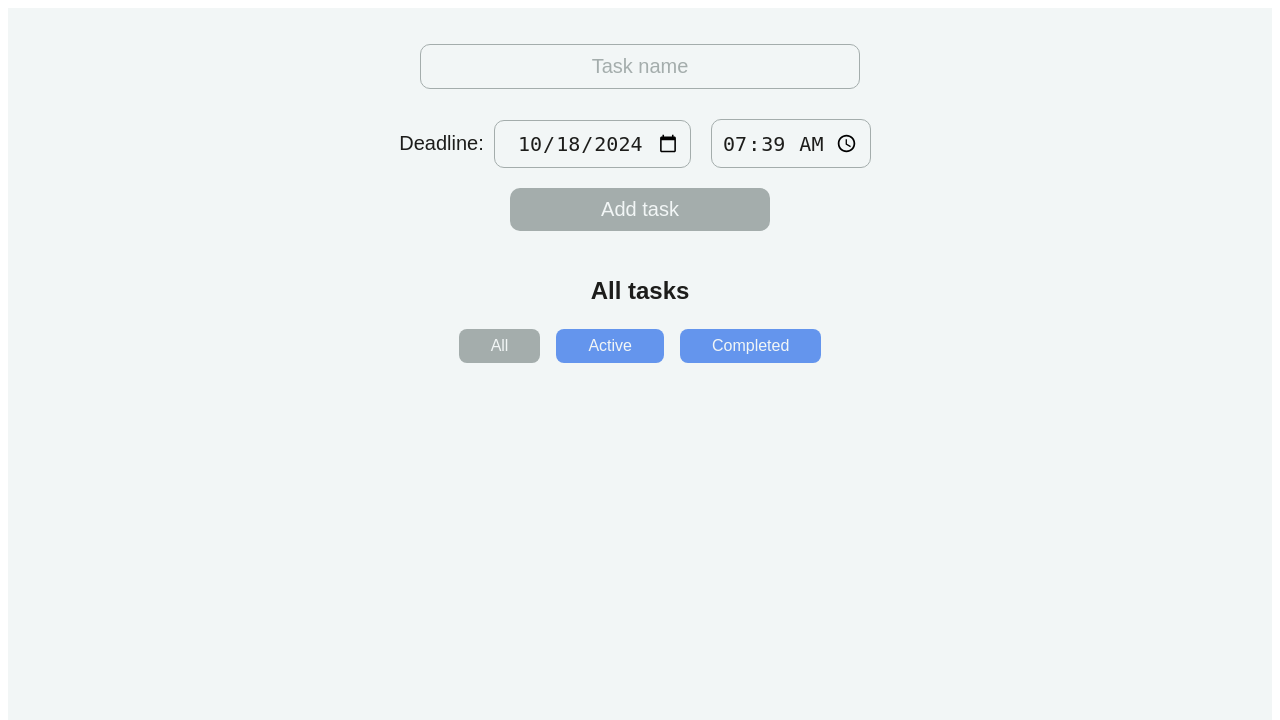
Redux functionality › set list queue
Step 1. Type "someTask" into the field → (640,66), box [420,44,860,89]
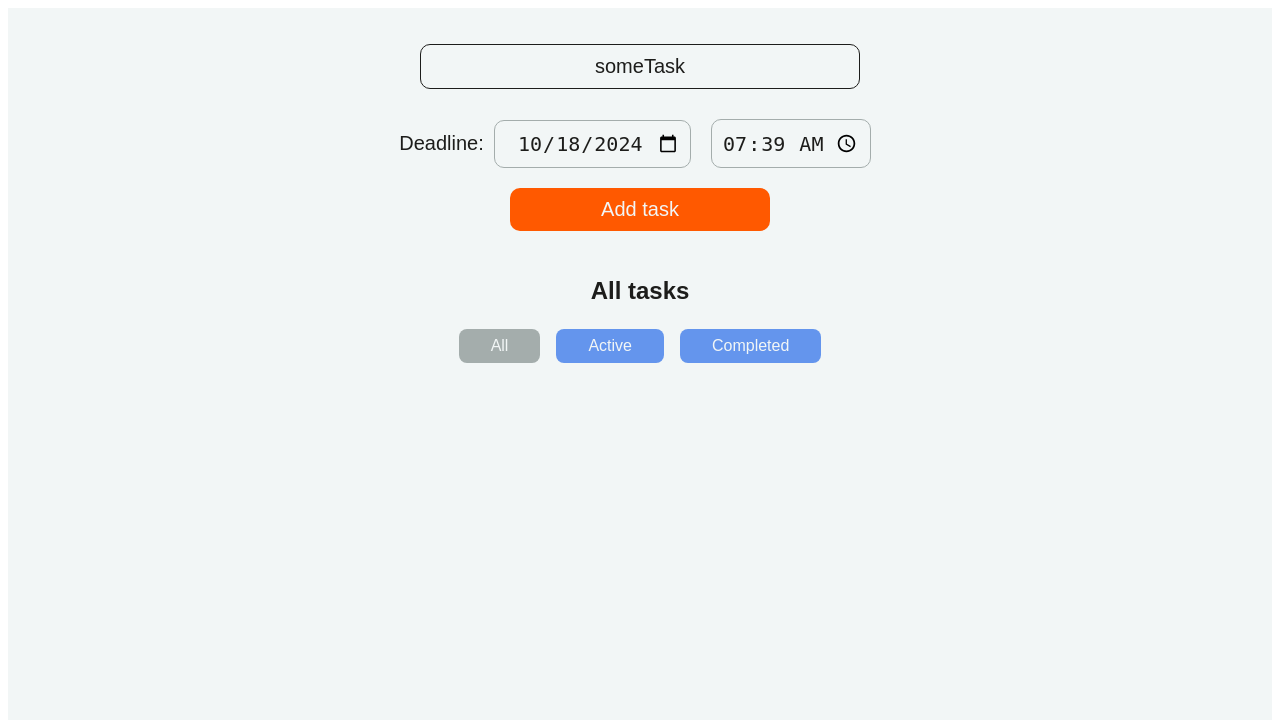
Step 2. Click the button "Add task" → (640,210), box [510,188,770,231]
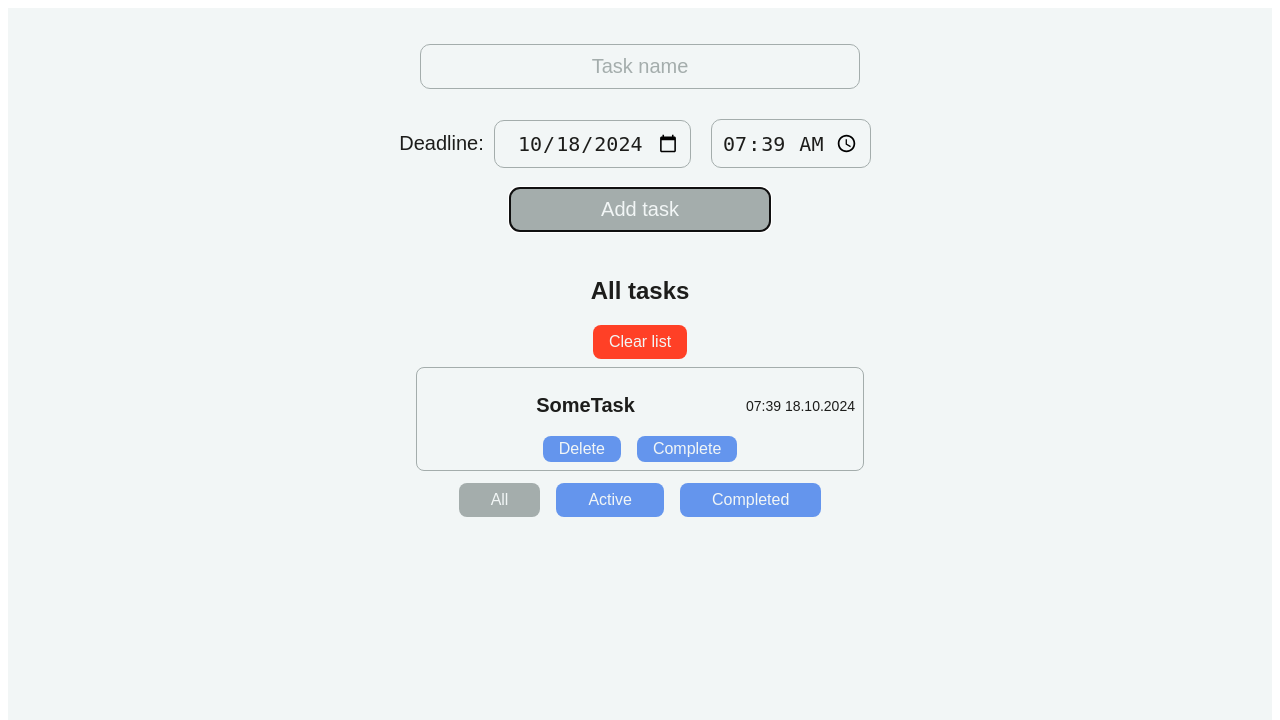
Step 3. Click the button "Active" → (610,500), box [556,483,664,517]
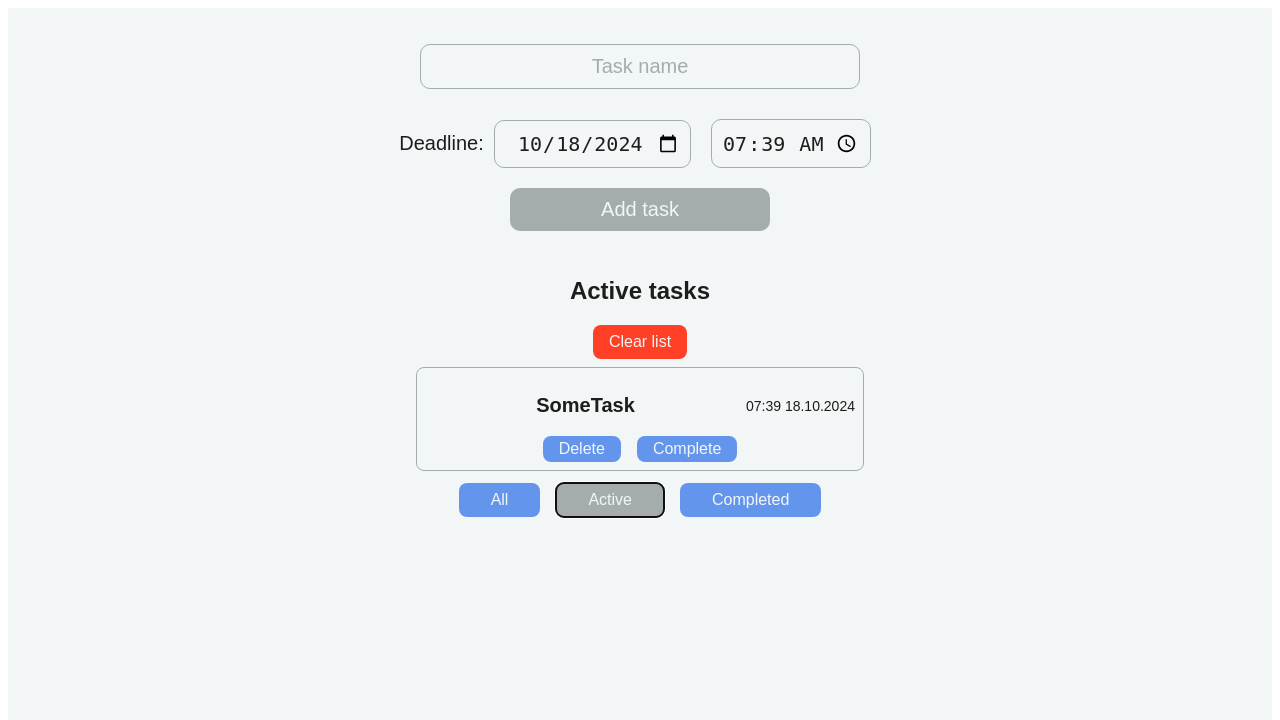
expect the heading "Active tasks" is shown: met, box [570,277,710,304]
Step 4. Click the button "Completed" → (751,500), box [680,483,821,517]
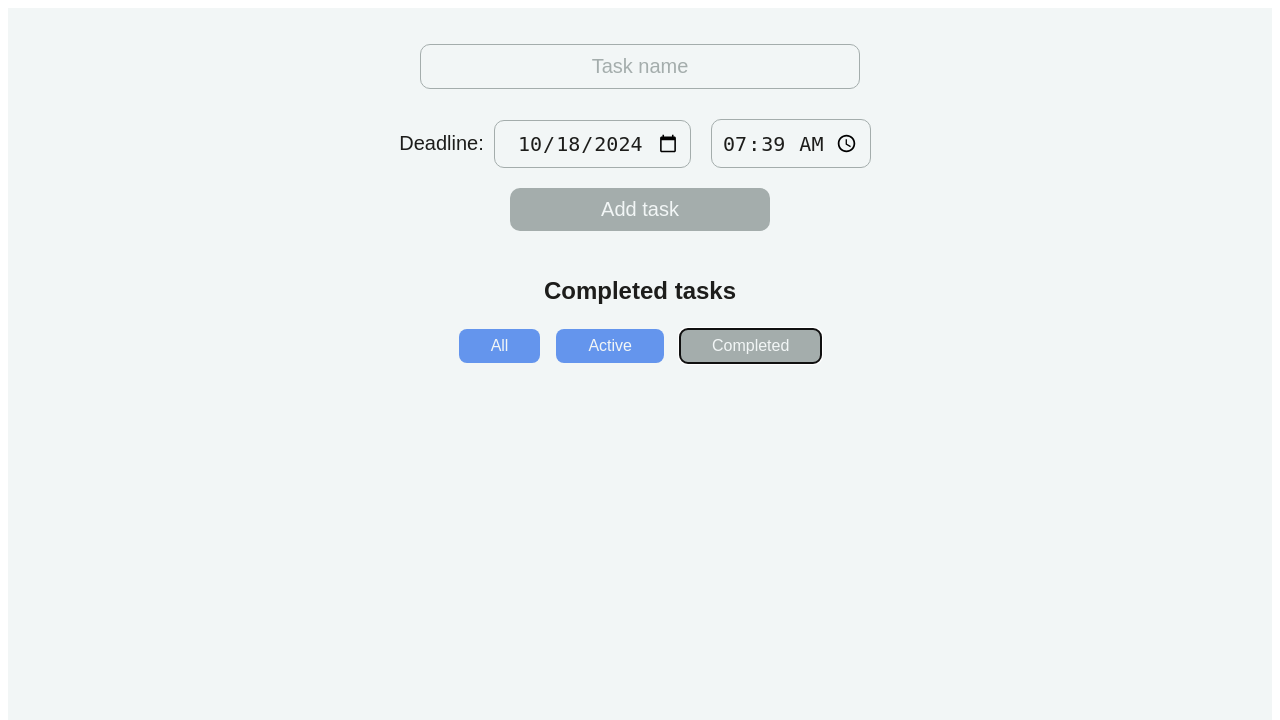
expect the heading "Completed tasks" is shown: met, box [544,277,736,304]
Step 5. Click the button "All" → (500,346), box [459,329,540,363]
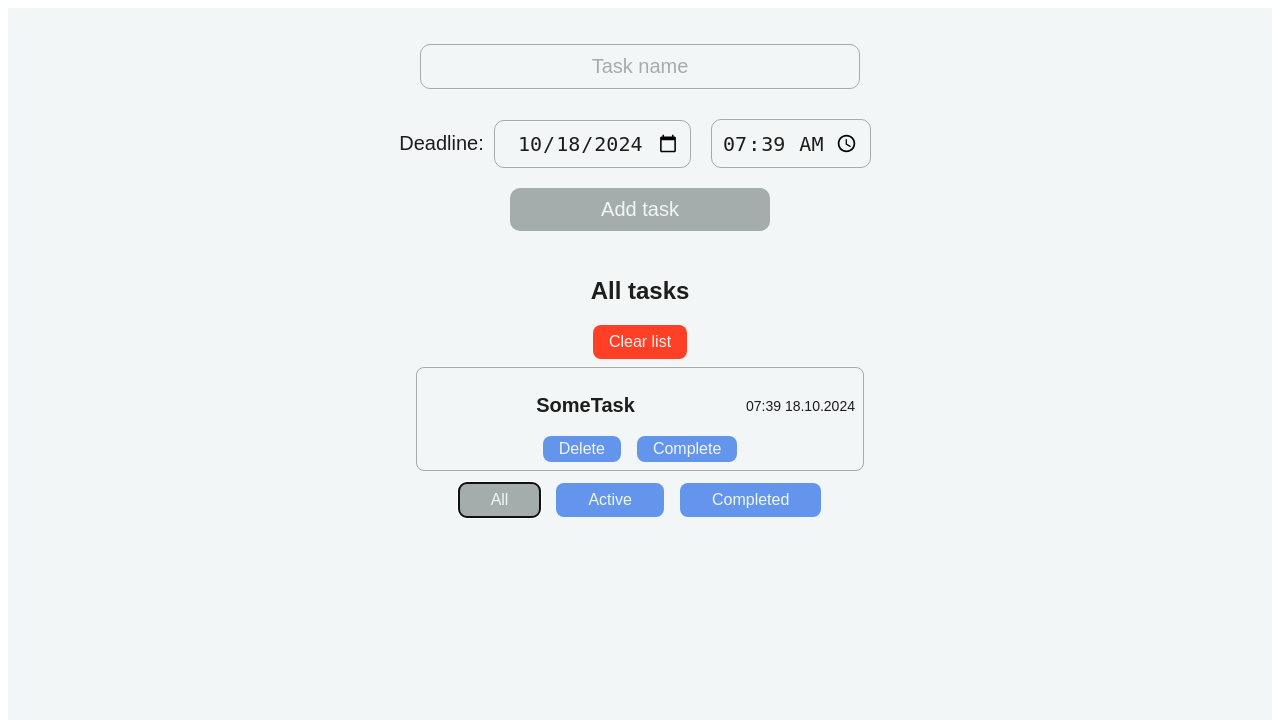
expect the heading "All tasks" is shown: met, box [591,277,689,304]
